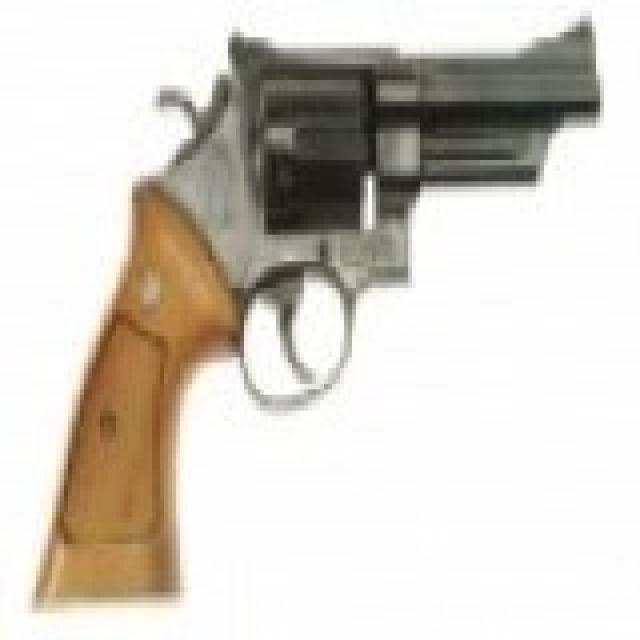Gun: (49, 13, 613, 586)
